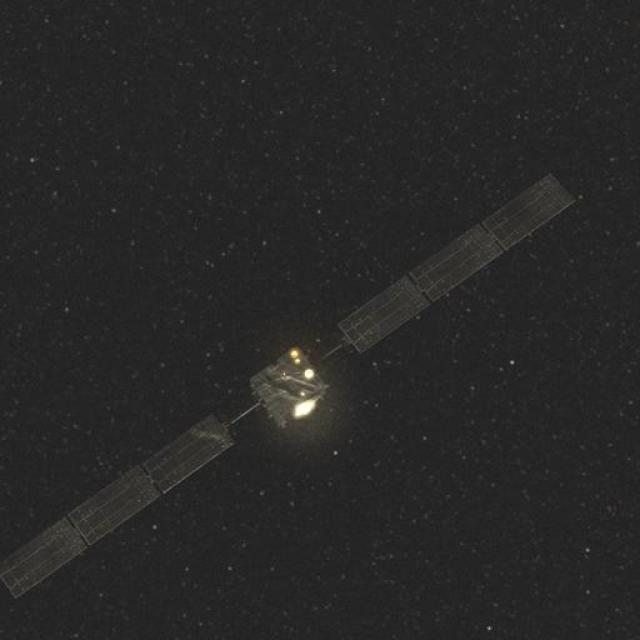smart_1: (160, 265, 396, 498)
